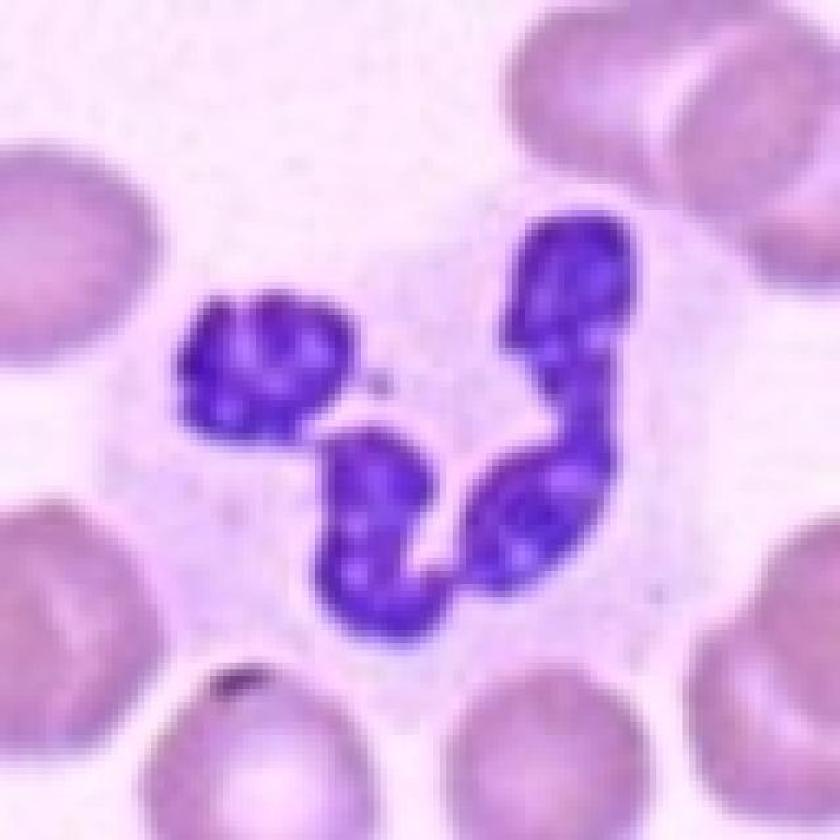neutrophil: (86, 174, 739, 736)
